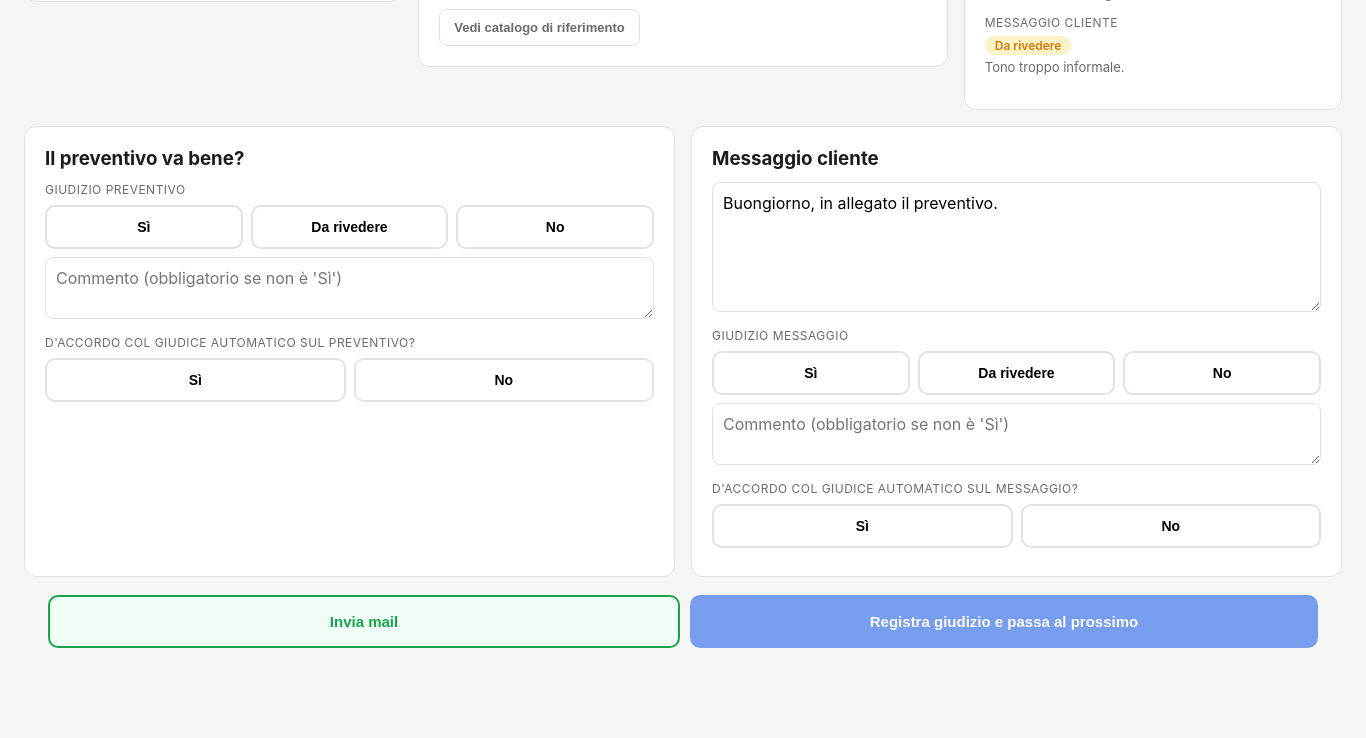
area di lavoro del giudice umano › 'Invia mail' mostra una conferma a schermo senza effettuare chiamate di rete
(page scrolled)
Click the button "Invia mail". click: (364, 622)
box: [48,595,680,648]
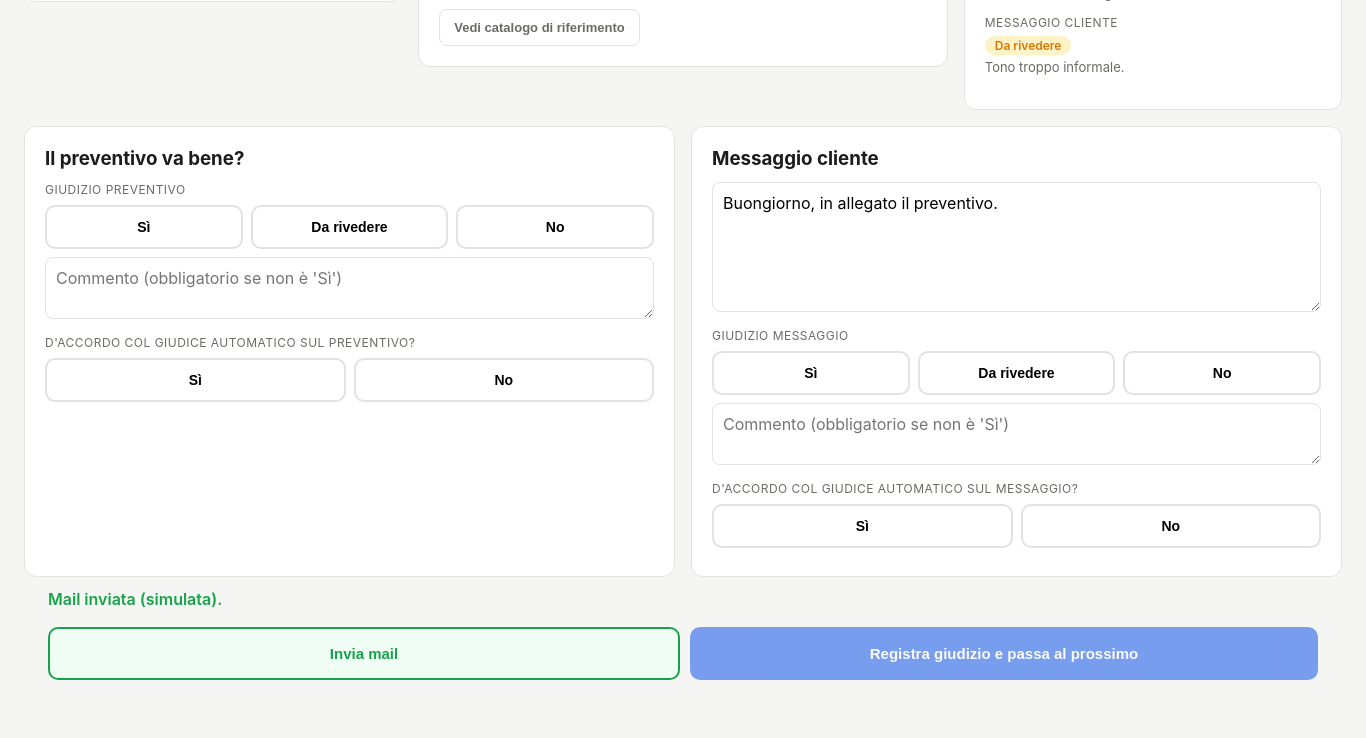
Expected: the text "Mail inviata (simulata)." is shown, [48,589,222,609]
